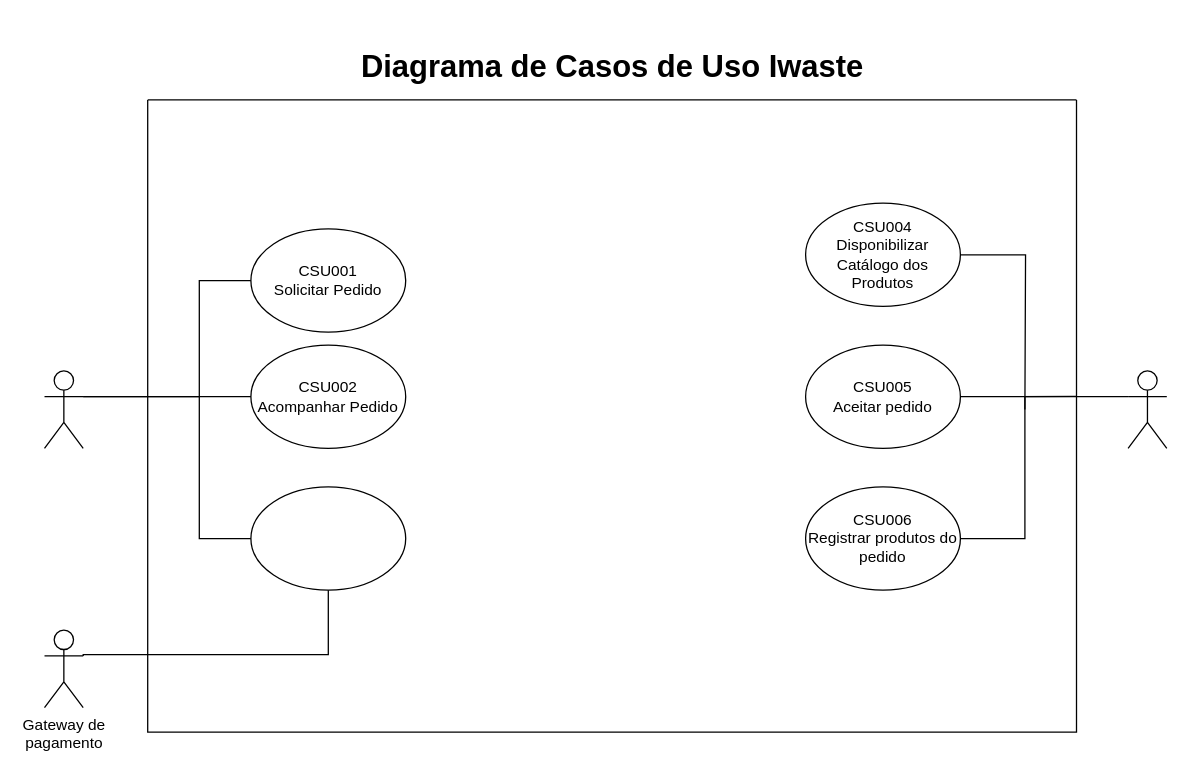
Some shapes in this 1200 by 775 pixel diagram are drawn without their labels. The shapes that lost their labels are listed below. From the top down, each one's box as (x1, y1, x2, y2) in pixels, then its label:
(43, 370, 83, 448): Comprador
(1127, 370, 1167, 448): Mercado
(250, 486, 406, 590): CSU003 Efetuar pagamento do Pedido
